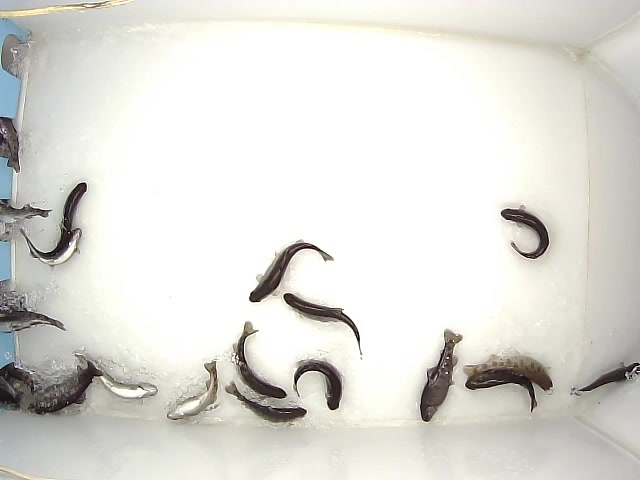fish: (248, 238, 335, 303), (283, 292, 363, 360), (232, 320, 288, 402), (26, 359, 104, 416), (72, 349, 159, 400), (419, 328, 464, 423), (461, 349, 554, 393), (224, 380, 308, 423), (464, 368, 538, 414), (165, 360, 219, 423), (19, 227, 84, 271), (500, 204, 550, 260), (292, 359, 344, 411), (55, 181, 88, 254)
